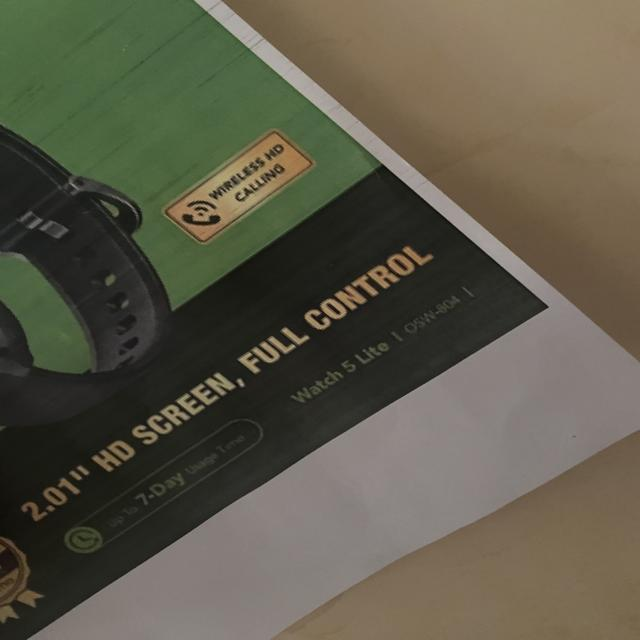Watch 5 Lite OSW-804: (277, 280, 488, 412)
